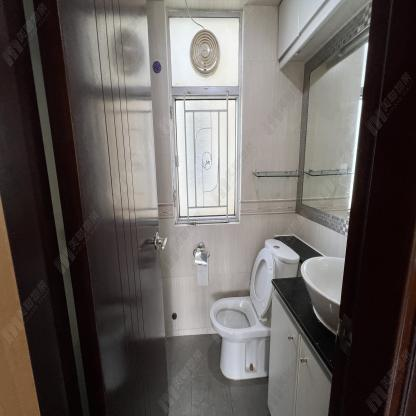Exhaust Fan: (183, 24, 226, 78)
Toilet: (210, 240, 299, 377)
Toilet Sink: (300, 257, 345, 336)
